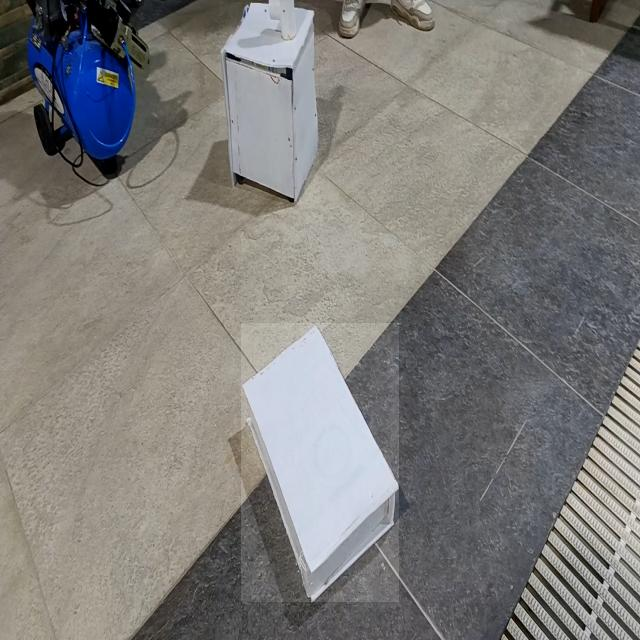Cube: (219, 2, 319, 204)
Cuboid: (241, 323, 399, 602)
